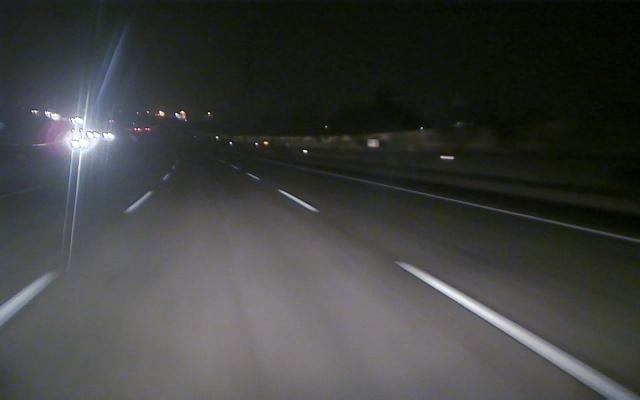lane: (265, 185, 636, 397), (1, 191, 151, 324), (379, 183, 639, 244)
